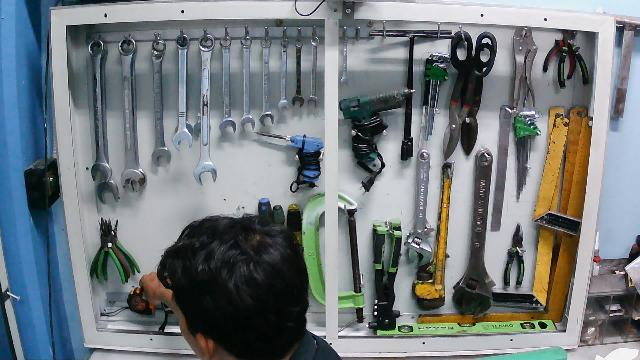meteran: (100, 287, 161, 322)
